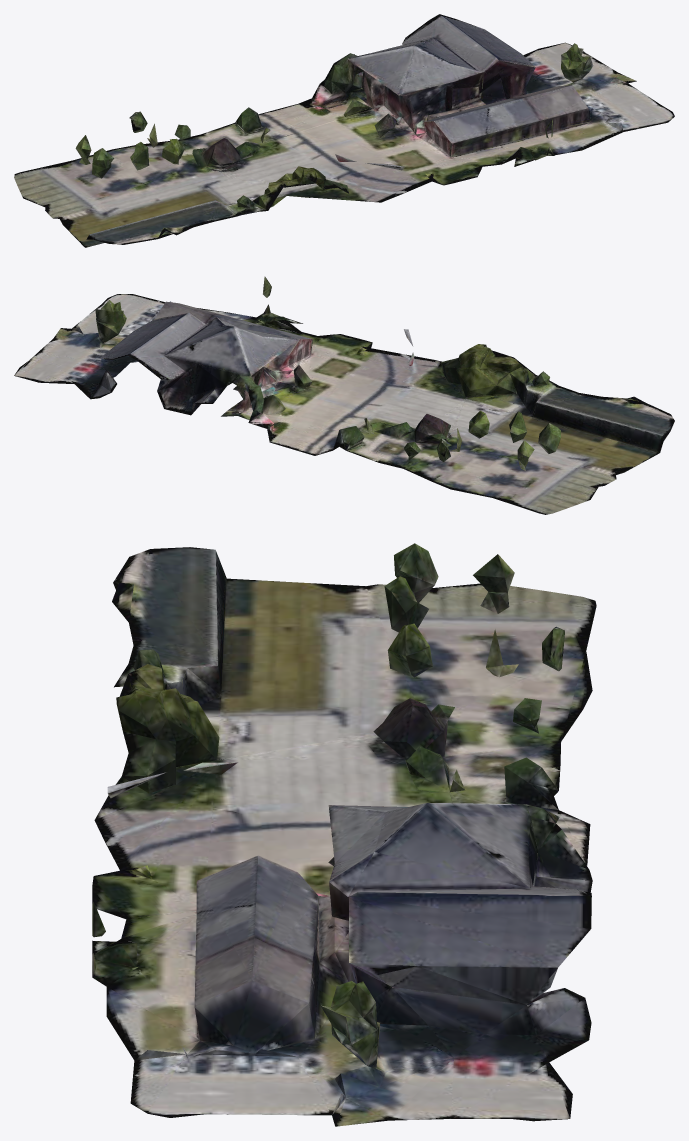
The picture shows the model from 3 angles, top to bottom: view 1: azimuth 30°, elevation 25°; view 2: azimuth 150°, elevation 25°; view 3: azimuth 270°, elevation 25°; orthographic projection. The views are drawn at different scales.
Bounding box in the file's own units: 149 × 17.69 × 56.58.
1 material, 1 textured.
